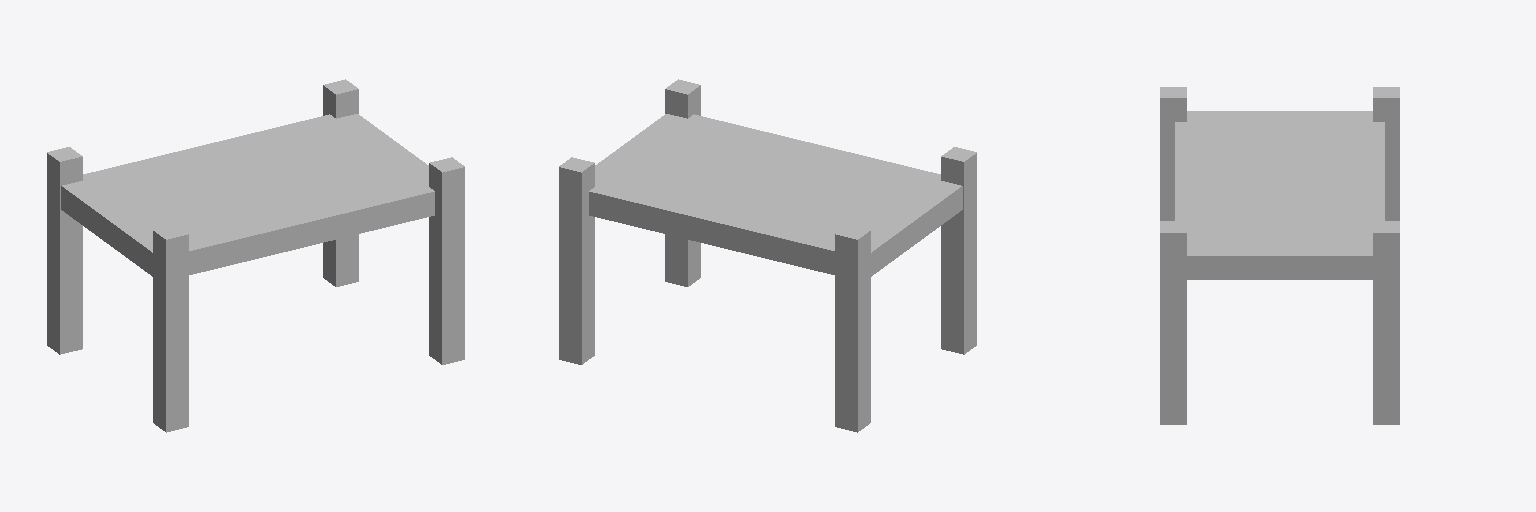
Rendered from mesinha_marmore.obj.
3 renders of one model, left to right at view 1: azimuth 30°, elevation 25°; view 2: azimuth 150°, elevation 25°; view 3: azimuth 270°, elevation 25°, orthographic.
Parts seen in each view (by area): view 1: Block, Block1; view 2: Block, Block1; view 3: Block, Block1.
Part boxes in pixels (x1,y1,x2,y2): Block: (61,114,434,276); Block1: (47,79,464,432); Block: (589,114,962,276); Block1: (559,79,976,432); Block: (1175,111,1384,279); Block1: (1160,87,1399,424).
Bounding box in the file's own units: 0.8125 × 0.5 × 0.5625.